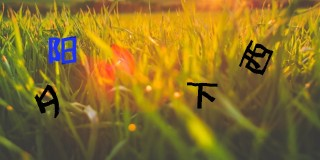下: (184, 80, 221, 111)
夕: (33, 84, 62, 121)
西: (238, 39, 274, 77)
阳: (47, 34, 79, 64)
